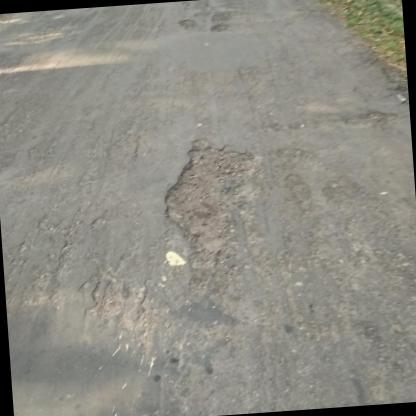pothole: (157, 136, 266, 266), (178, 16, 199, 33), (210, 10, 232, 23), (208, 23, 230, 33)
